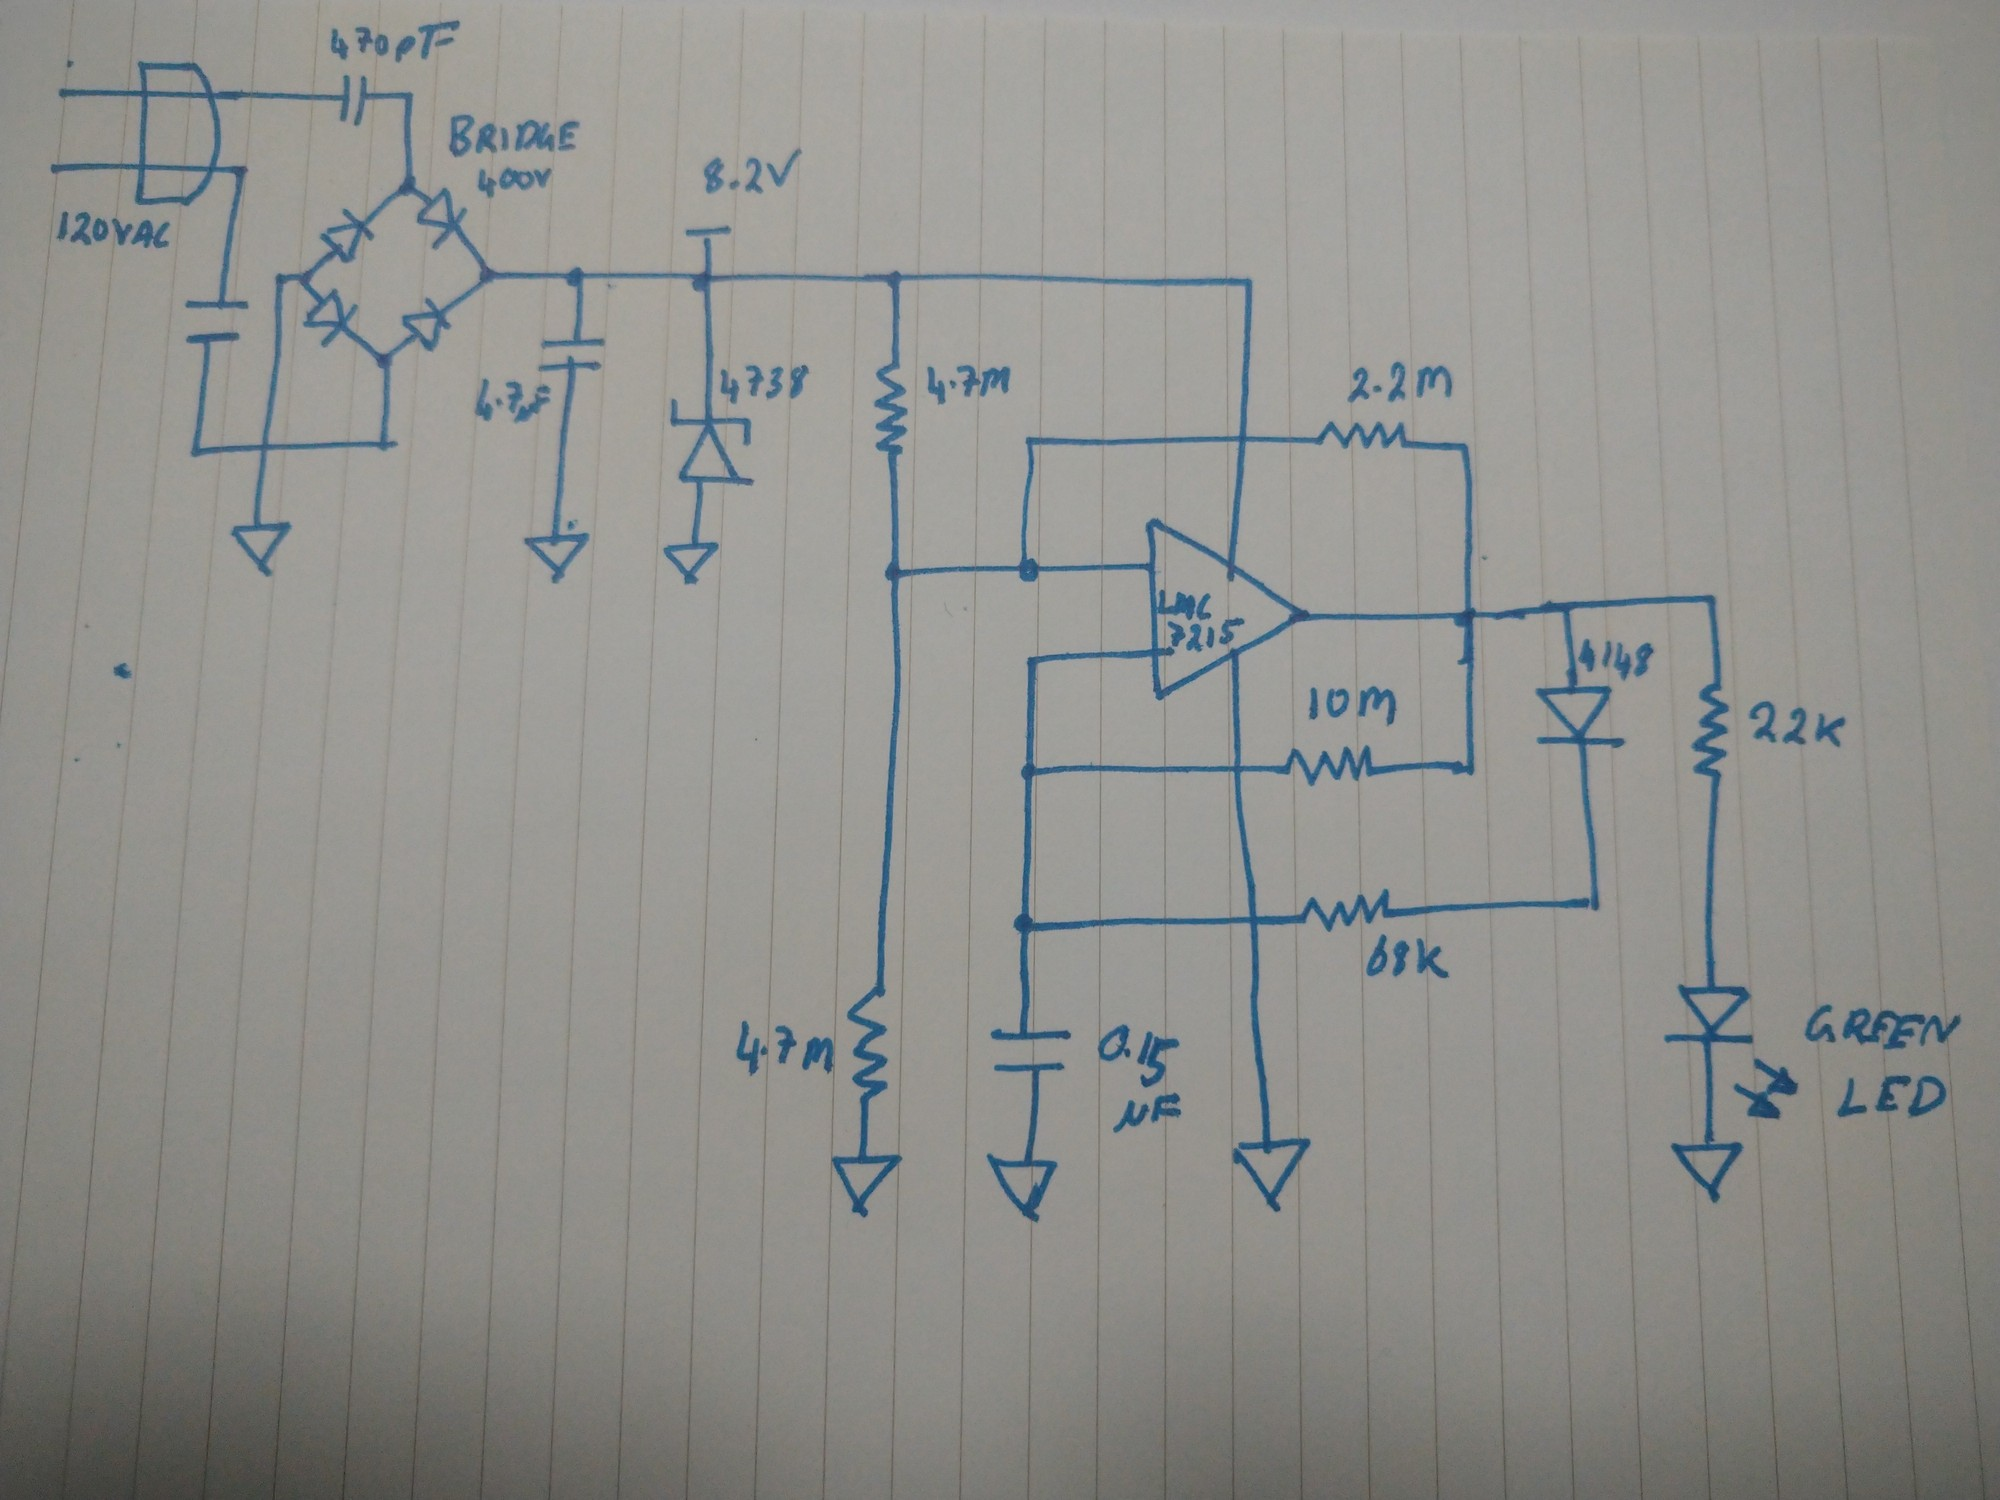capacitor.unpolarized: (984, 1026, 1074, 1079), (181, 298, 250, 345), (539, 337, 605, 373), (335, 72, 370, 128)
crossover: (1225, 429, 1257, 451), (1239, 911, 1269, 933), (1227, 756, 1252, 782), (255, 436, 276, 457)
diode: (668, 400, 756, 488), (1531, 684, 1627, 748), (301, 287, 361, 348), (414, 186, 469, 251), (400, 295, 457, 355), (320, 208, 375, 265)
diode.light_emitting: (1658, 983, 1800, 1128)
gnd: (1228, 1138, 1313, 1213), (1668, 1141, 1753, 1209), (984, 1153, 1061, 1227), (828, 1153, 904, 1220), (228, 522, 294, 577), (520, 533, 591, 583), (660, 542, 724, 585)
junction: (688, 266, 718, 296), (1013, 556, 1043, 585), (227, 159, 254, 187), (1009, 912, 1039, 937), (1450, 603, 1480, 629), (880, 266, 909, 291), (880, 559, 909, 585), (474, 262, 499, 288), (564, 265, 589, 288), (373, 432, 398, 455), (1016, 761, 1041, 785), (400, 176, 422, 202), (1580, 890, 1602, 915), (1698, 588, 1723, 610), (1457, 759, 1482, 778), (1553, 599, 1578, 618), (187, 440, 209, 460), (268, 273, 290, 293), (376, 351, 398, 372), (1239, 274, 1258, 295), (1019, 433, 1039, 452), (1019, 651, 1039, 670), (1454, 436, 1476, 454), (398, 88, 417, 106), (296, 269, 313, 288)
operational_amplifier: (1142, 515, 1307, 703)
resistor: (846, 986, 896, 1108), (1301, 889, 1394, 936), (1690, 681, 1732, 780), (1283, 745, 1378, 788), (869, 366, 910, 457), (1315, 418, 1406, 454)
socket: (131, 58, 227, 208)
terminal: (683, 221, 731, 244), (39, 159, 68, 180), (47, 84, 74, 102)
text: (1094, 1021, 1186, 1134), (1805, 1002, 1961, 1056), (328, 17, 461, 68), (731, 1019, 836, 1082), (1154, 588, 1247, 652), (447, 113, 578, 158), (1835, 1071, 1957, 1117), (54, 208, 176, 254), (1746, 701, 1847, 752), (1345, 361, 1457, 403), (1364, 933, 1455, 983), (702, 150, 802, 195), (720, 362, 809, 407), (1307, 684, 1398, 726), (924, 364, 1016, 407), (472, 378, 553, 424), (1578, 640, 1658, 682), (472, 165, 554, 200)
